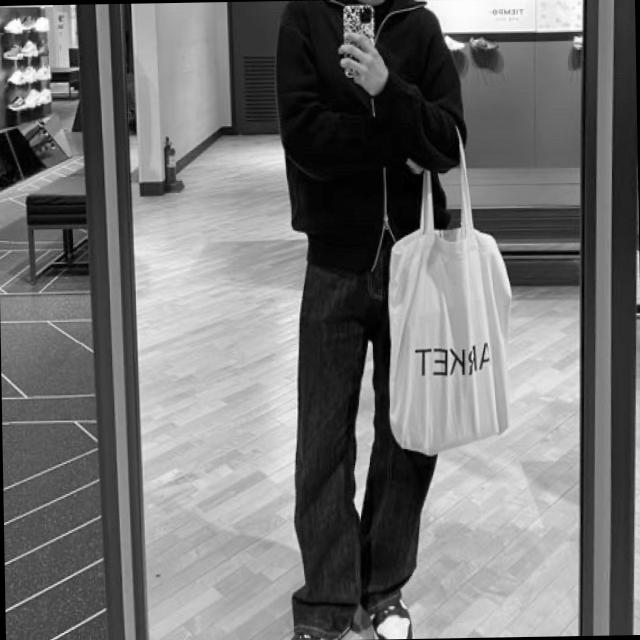cardigan: (275, 0, 468, 275)
denimpants: (286, 225, 442, 639)
